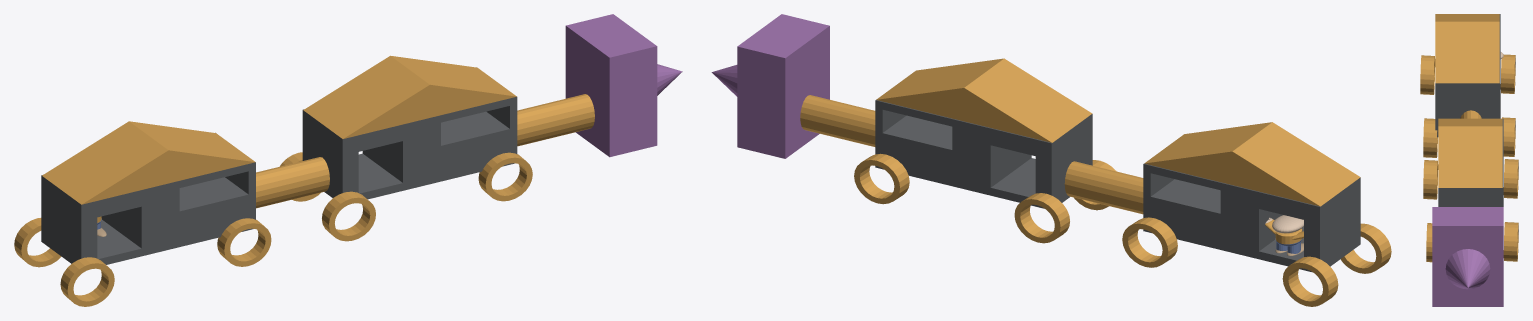
Rendered from Copy of Project 150.glb.
The picture shows the model from 3 angles, left to right: view 1: azimuth 30°, elevation 25°; view 2: azimuth 150°, elevation 25°; view 3: azimuth 270°, elevation 25°; orthographic projection. The views are drawn at different scales.
Visible parts, largest first — view 1: Mesh_Mesh_head_geo.001_lambert2SG.001; view 2: Mesh_Mesh_head_geo.001_lambert2SG.001; view 3: Mesh_Mesh_head_geo.001_lambert2SG.001.
Part boxes in pixels (x1,y1,x2,y2): Mesh_Mesh_head_geo.001_lambert2SG.001: (14, 14, 682, 306); Mesh_Mesh_head_geo.001_lambert2SG.001: (711, 14, 1391, 306); Mesh_Mesh_head_geo.001_lambert2SG.001: (1420, 14, 1518, 306).
Bounding box in the file's own units: 203 × 38.82 × 33.
